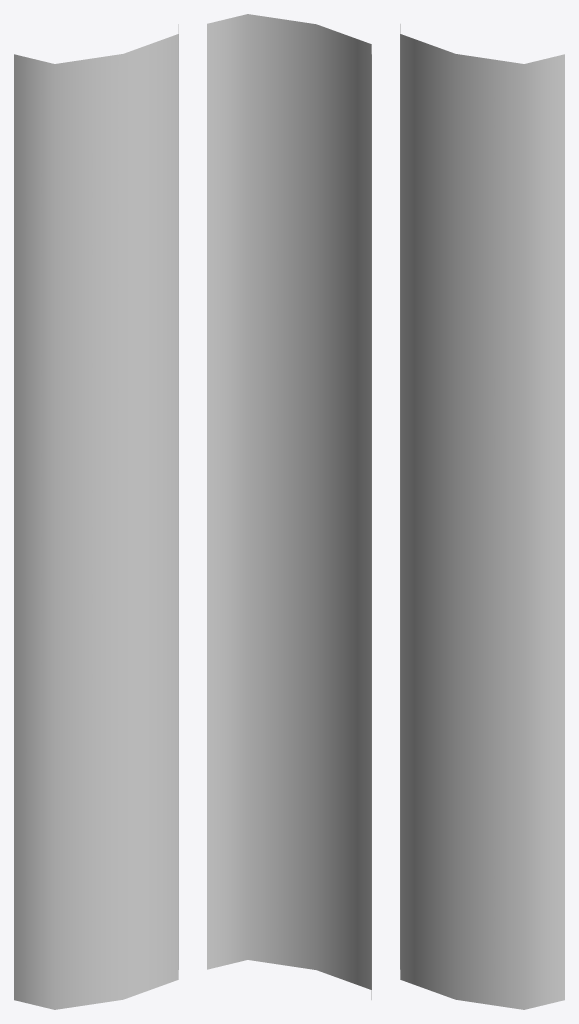
The model's file is Half_Column.glb.
The picture shows the model from 3 angles, left to right: view 1: azimuth 30°, elevation 25°; view 2: azimuth 150°, elevation 25°; view 3: azimuth 330°, elevation 25°; orthographic projection.
Parts seen in each view (by area): view 1: halfcolumn_01_geo; view 2: halfcolumn_01_geo; view 3: halfcolumn_01_geo.
Boxes of the visible parts, x1,y1,x2,y2 form: halfcolumn_01_geo: [14, 24, 178, 1009]; halfcolumn_01_geo: [207, 14, 371, 999]; halfcolumn_01_geo: [400, 24, 564, 1009].
Size of what is drawn, in the model's own units: 0.9741 by 5.34 by 0.2755.
1 material, 1 textured.
